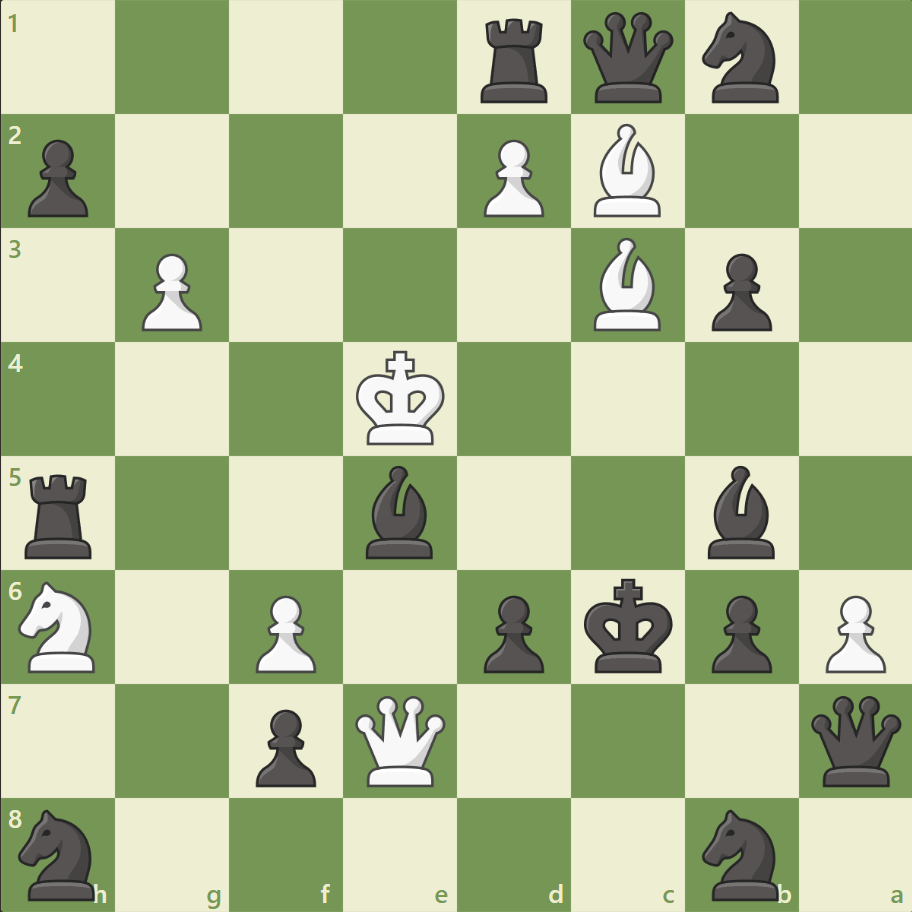B: (585, 233, 669, 336), (585, 120, 669, 222)
K: (351, 344, 451, 452)
N: (11, 575, 108, 677)
P: (247, 586, 322, 677), (133, 246, 208, 337), (474, 132, 549, 223), (815, 586, 889, 677)
Q: (351, 690, 450, 789)
b: (698, 460, 782, 563), (358, 460, 442, 563)
k: (579, 571, 679, 679)
n: (692, 7, 789, 110), (692, 802, 789, 904), (11, 802, 108, 904)
p: (247, 700, 322, 791), (701, 586, 776, 677), (474, 586, 549, 677), (701, 246, 776, 337), (20, 132, 95, 223)
q: (805, 690, 904, 789), (578, 9, 677, 108)
r: (19, 466, 102, 563), (473, 12, 556, 109)
